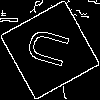U: (25, 25, 79, 73)
